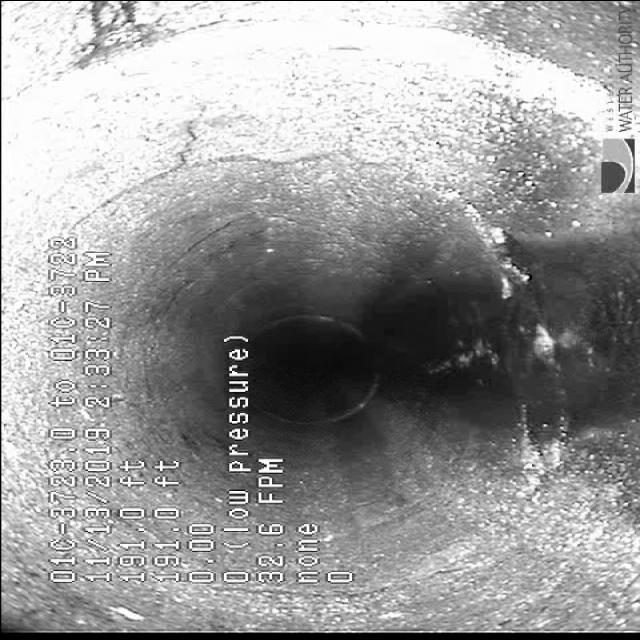Crack: (81, 102, 381, 216)
